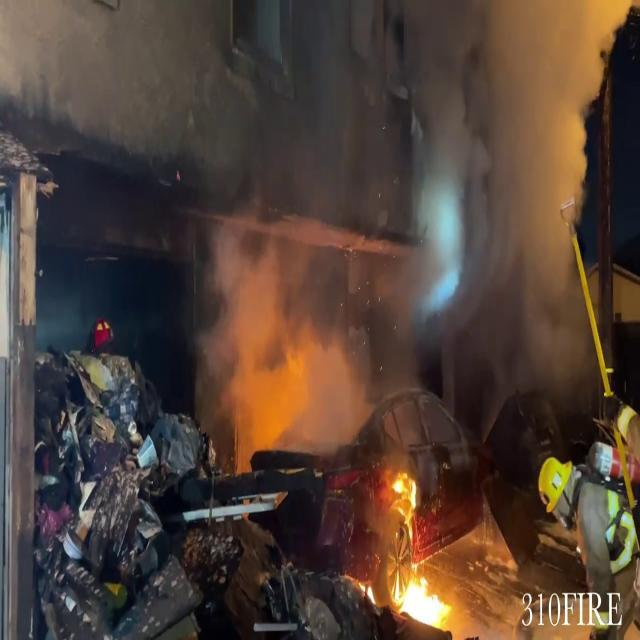Fire: (366, 470, 464, 634), (380, 561, 462, 633)
Smoke: (403, 0, 624, 323), (182, 186, 385, 470)
